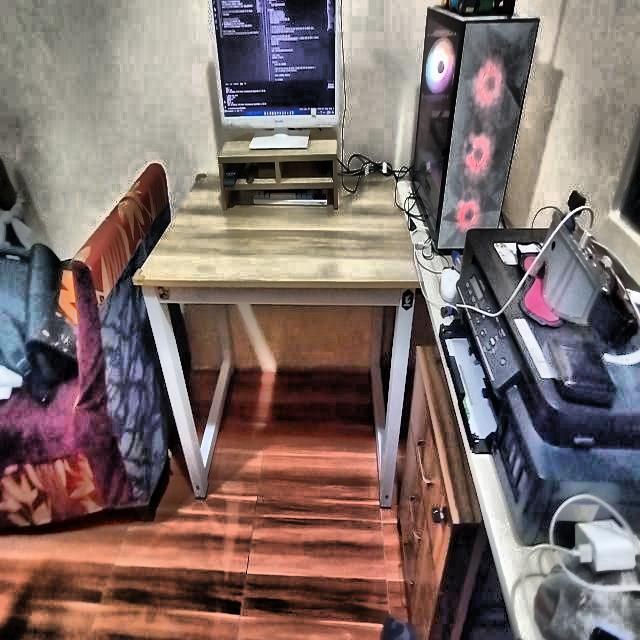mesa: (148, 156, 416, 520)
